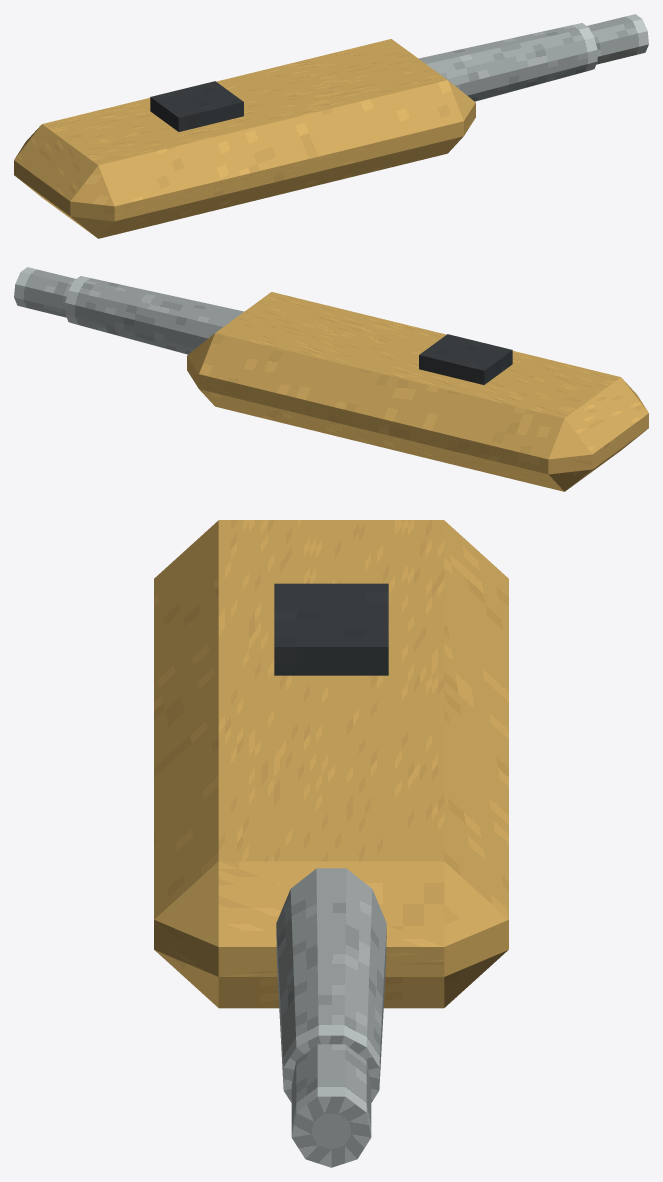
File: dremel.glb
3 views of the same model, one above another, from view 1: azimuth 30°, elevation 25°; view 2: azimuth 150°, elevation 25°; view 3: azimuth 270°, elevation 25° (orthographic). The views are drawn at different scales.
Visible parts, largest first — view 1: block_molded handheld case, block_barrel, block_power switch, block_tool attachment; view 2: block_molded handheld case, block_barrel, block_power switch, block_tool attachment; view 3: block_molded handheld case, block_barrel, block_power switch, block_tool attachment.
Part boxes in pixels (x1,y1,x2,y2): block_molded handheld case: [14, 39, 475, 238]; block_barrel: [418, 23, 597, 101]; block_power switch: [150, 81, 243, 131]; block_tool attachment: [587, 14, 648, 64]; block_molded handheld case: [187, 292, 648, 491]; block_barrel: [65, 276, 244, 354]; block_power switch: [419, 334, 512, 384]; block_tool attachment: [14, 267, 75, 317]; block_molded handheld case: [154, 520, 508, 1008]; block_barrel: [276, 868, 386, 1102]; block_power switch: [274, 583, 388, 675]; block_tool attachment: [291, 1044, 371, 1167].
Size of the model in its own units: 0.23 by 0.0324 by 0.0592.
Materials: 1 (1 with a texture image).
